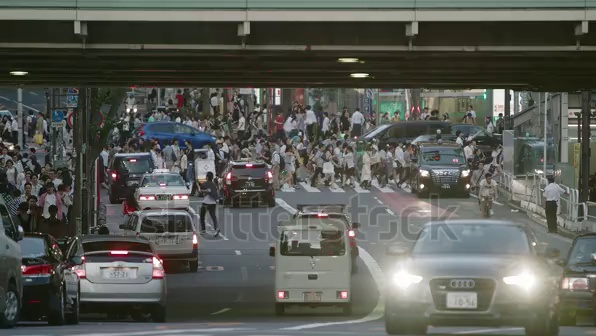licenseplate: (440, 294, 485, 311)
